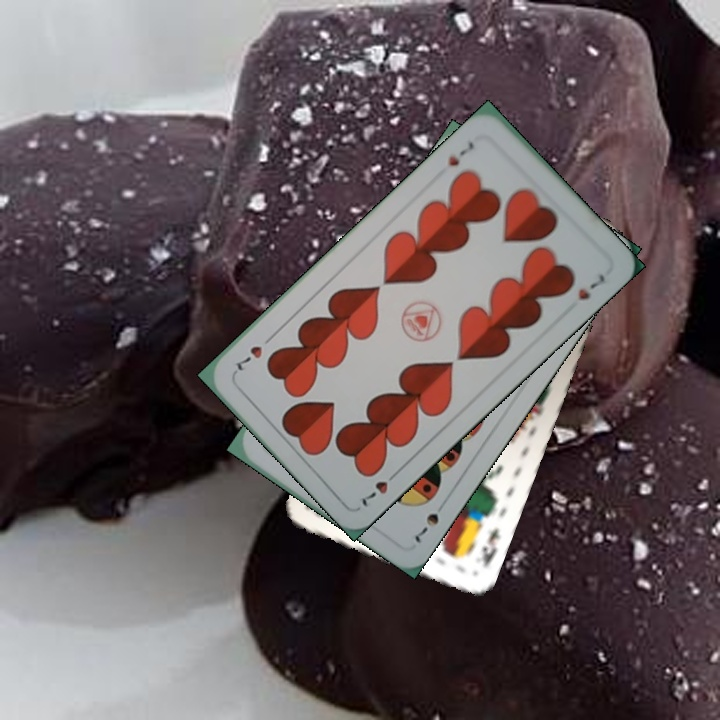EK: (477, 524, 503, 571)
H7: (358, 465, 403, 510), (444, 137, 477, 169)
S7: (410, 496, 449, 546)
